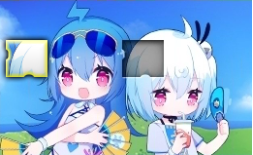gap: (121, 39, 164, 77)
